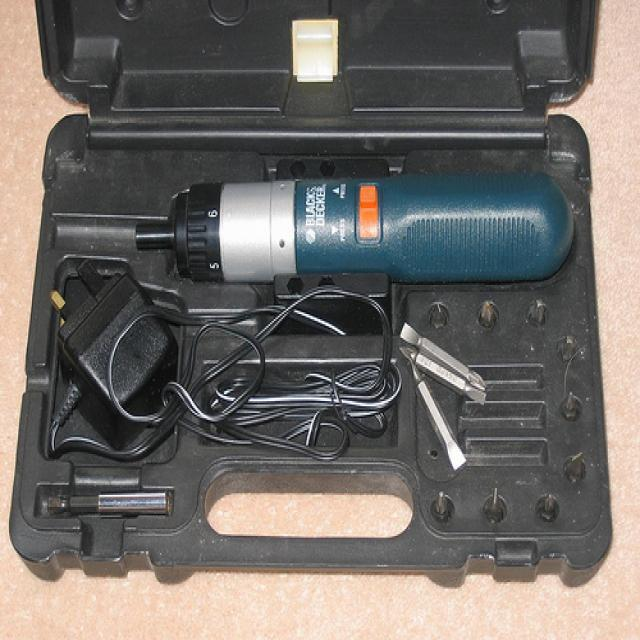drill: (138, 173, 580, 315)
